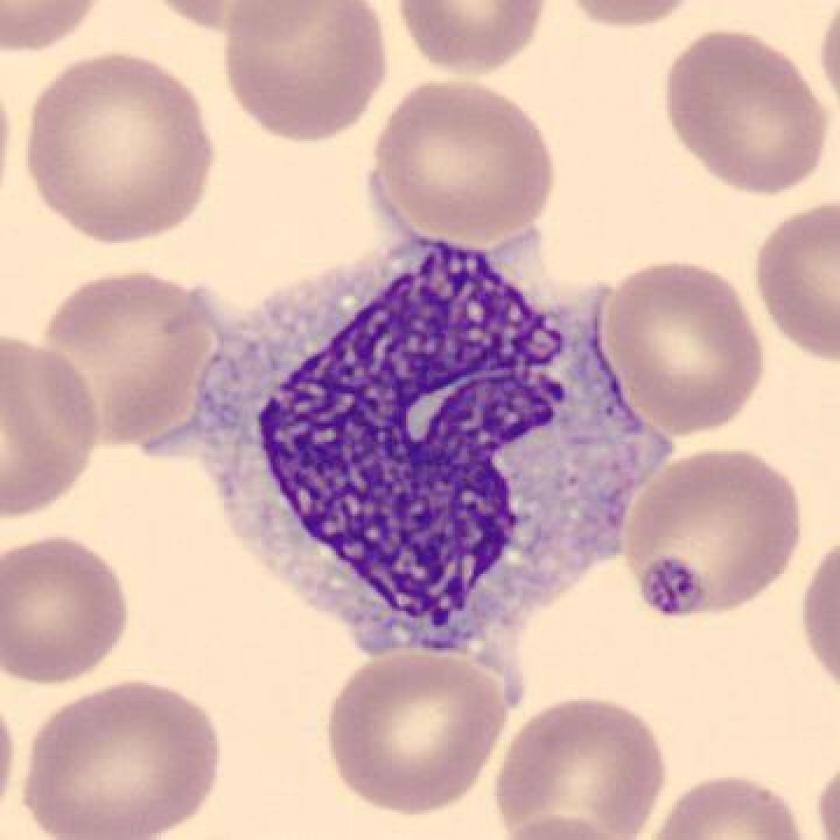monocyte: (171, 198, 687, 691)
